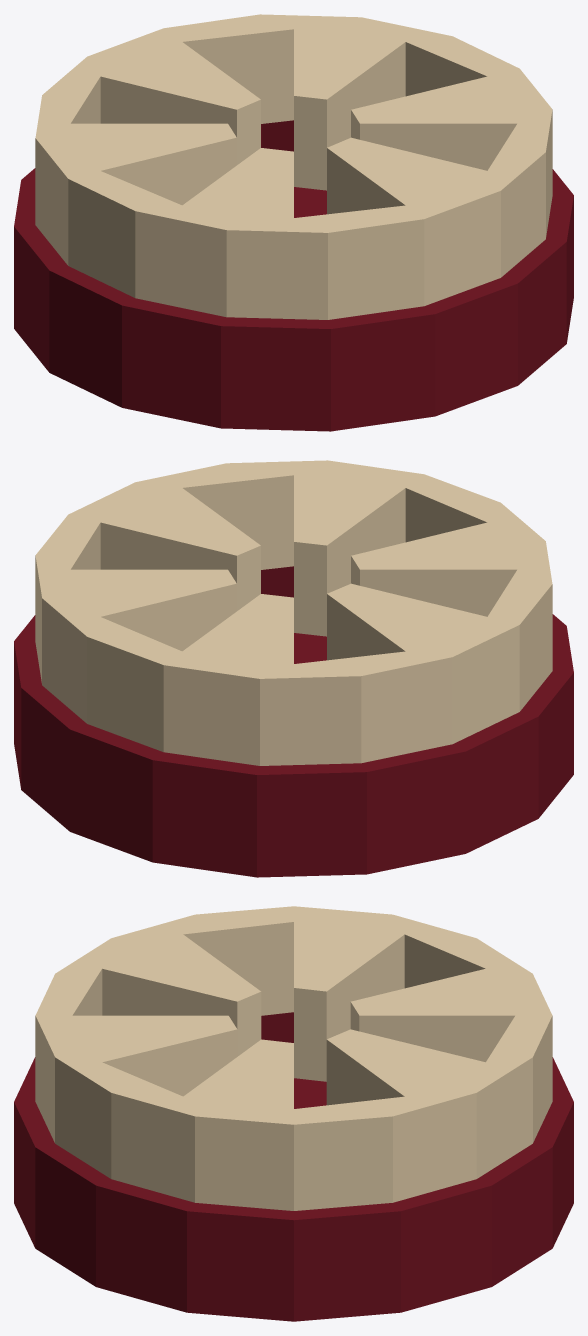
Rendered from Attacher_Universal.fbx.
The picture shows the model from 3 angles, top to bottom: view 1: azimuth 30°, elevation 25°; view 2: azimuth 150°, elevation 25°; view 3: azimuth 270°, elevation 25°; orthographic projection.
Visible parts, largest first — view 1: Base; view 2: Base; view 3: Base.
Part boxes in pixels (left/top/right/bottom): Base: left=14, top=14, right=573, bottom=431; Base: left=14, top=460, right=573, bottom=877; Base: left=14, top=906, right=573, bottom=1321.
Size of the model in its own units: 83.61 by 30.95 by 83.61.
